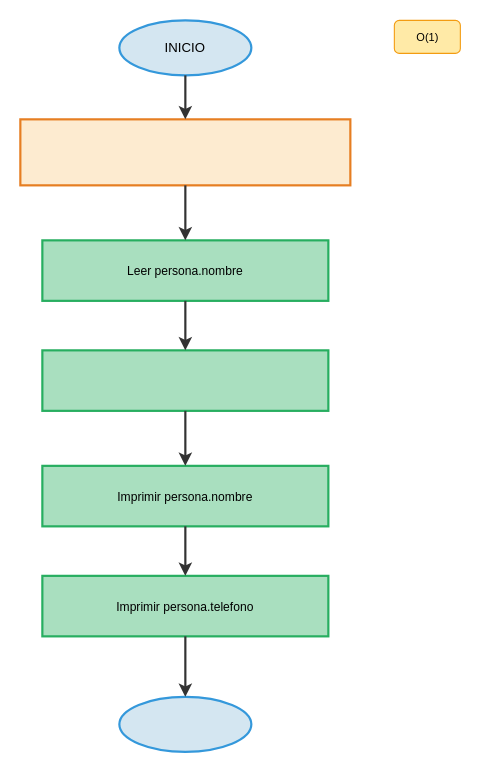
Some shapes in this 480 by 771 pixel diagram are drawn without their labels. The shapes that lost their labels are listed below. From the top down, each one's centre as x and y in pixels, then its label:
(185,152): struct Persona { nombre, telefono } Persona persona
(185,380): Leer persona.telefono
(185,723): FIN
